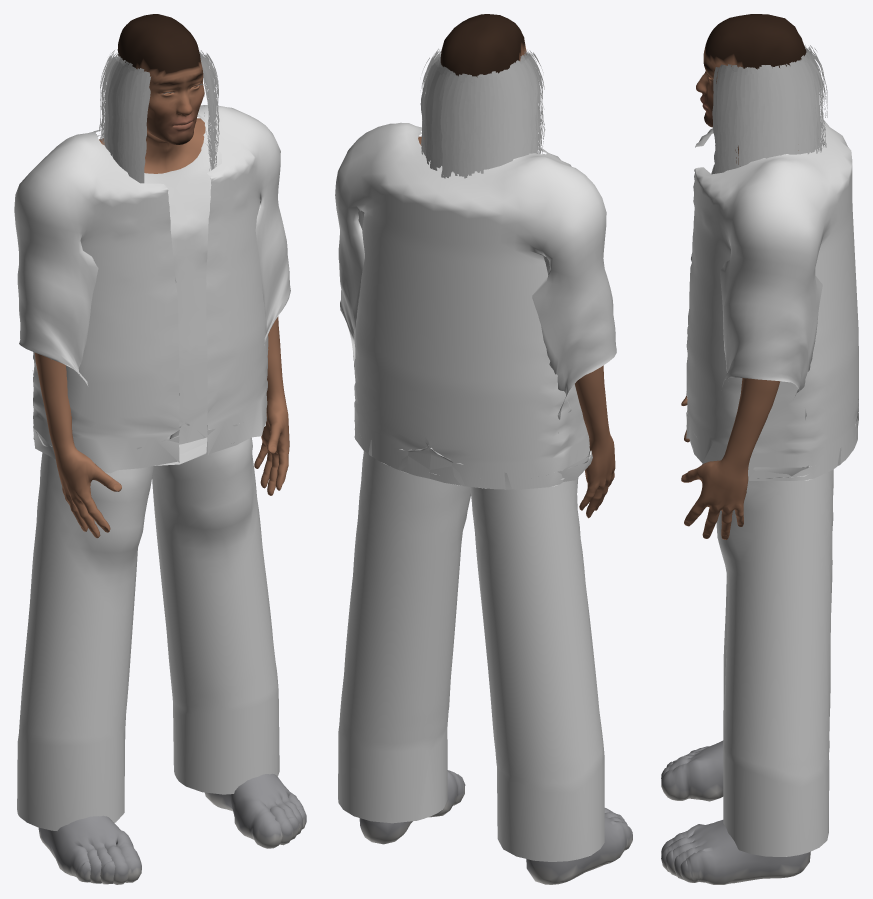
File: avatar.glb
The picture shows the model from 3 angles, left to right: view 1: azimuth 30°, elevation 25°; view 2: azimuth 150°, elevation 25°; view 3: azimuth 270°, elevation 25°; orthographic projection.
Visible parts, largest first — view 1: pants, shirt, skin, tee, shoes, hair; view 2: shirt, pants, hair, skin, shoes; view 3: shirt, pants, skin, hair, shoes.
Part boxes in pixels (x1=…): pants: x1=17, y1=437, x2=279, y2=830; shirt: x1=14, y1=105, x2=290, y2=473; skin: x1=34, y1=14, x2=289, y2=538; tee: x1=97, y1=114, x2=221, y2=453; shoes: x1=38, y1=773, x2=306, y2=884; hair: x1=99, y1=50, x2=219, y2=186; shirt: x1=335, y1=122, x2=616, y2=489; pants: x1=338, y1=451, x2=604, y2=861; hair: x1=420, y1=48, x2=545, y2=178; skin: x1=418, y1=14, x2=615, y2=518; shoes: x1=359, y1=770, x2=632, y2=884; shirt: x1=686, y1=116, x2=858, y2=480; pants: x1=716, y1=469, x2=833, y2=856; skin: x1=681, y1=14, x2=806, y2=539; hair: x1=712, y1=45, x2=827, y2=173; shoes: x1=661, y1=740, x2=810, y2=884.
Size of the model in its own units: 6.32 by 18.74 by 4.12.
